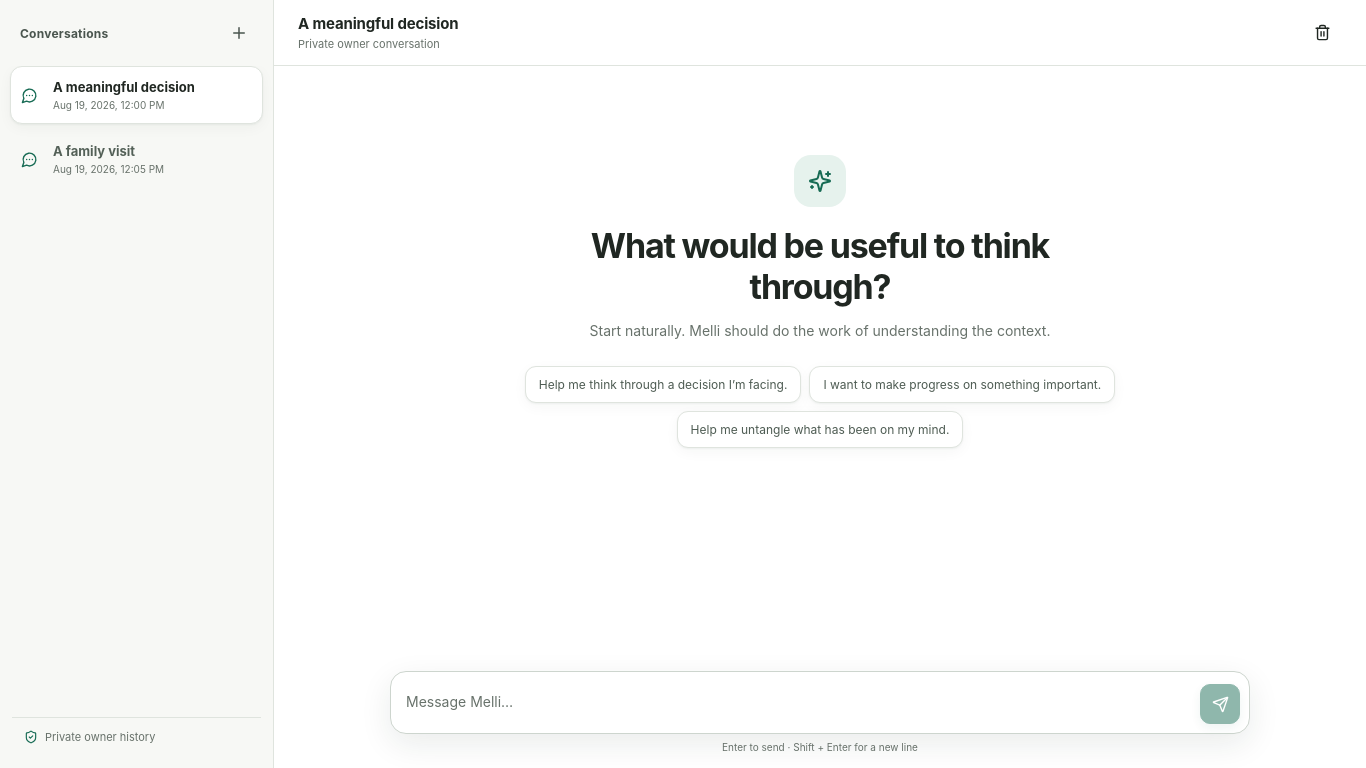
Test: ConversationPage › keeps the destination thread stable when a send finishes elsewhere
Type "A message for the first thread" into the text box labelled "Message Melli" at (798, 702), box [406,681,1190,724]
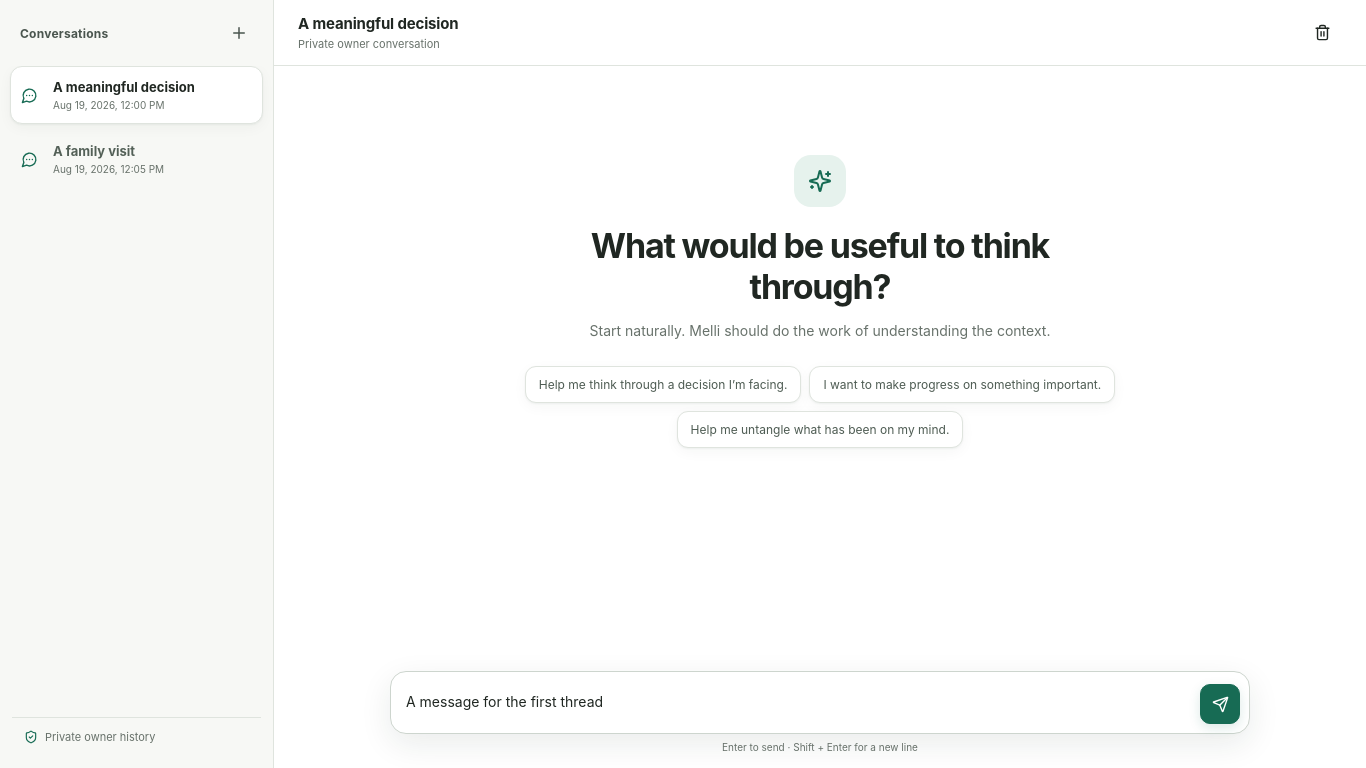
Click the button named "Send message" at (1220, 704), box [1200,684,1240,724]
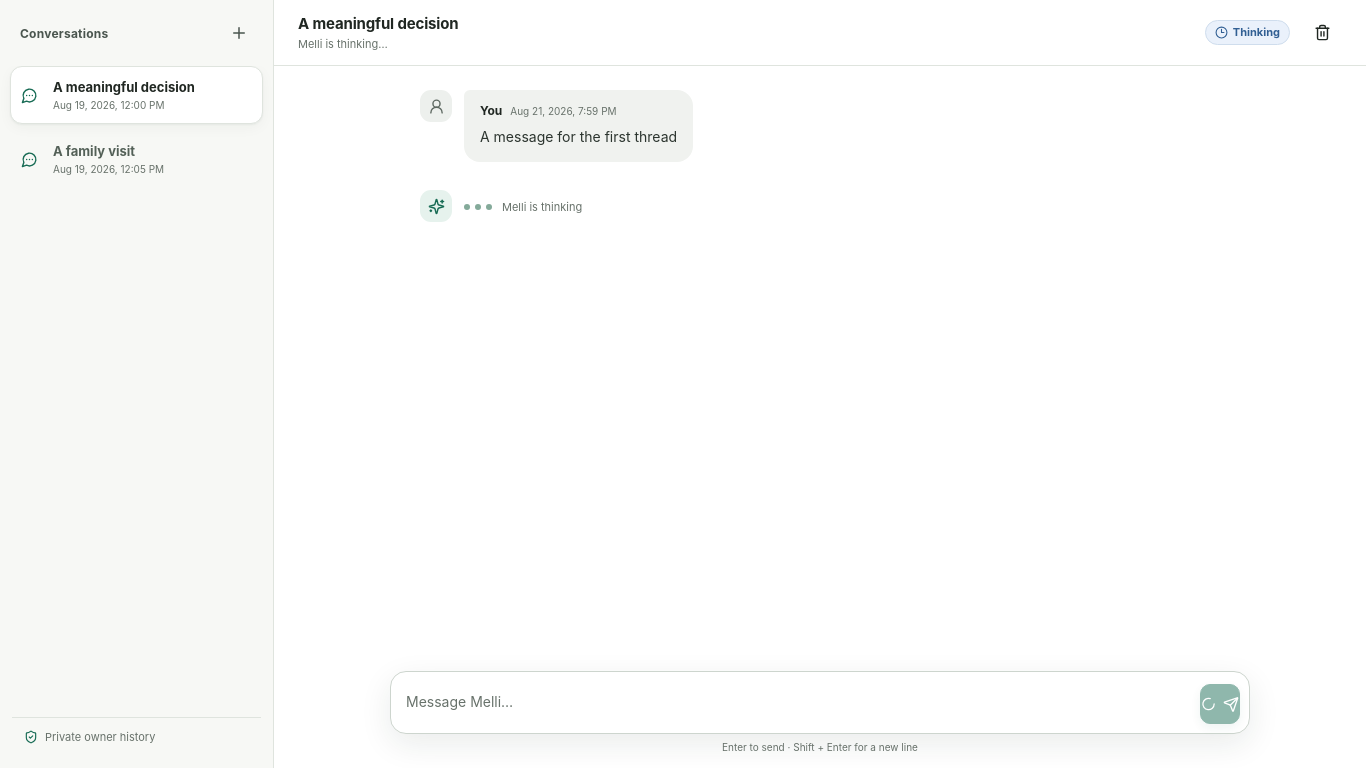
Click the button "A family visit Aug 19, 2026, 12:05 PM" at (136, 159), box [10,130,263,188]
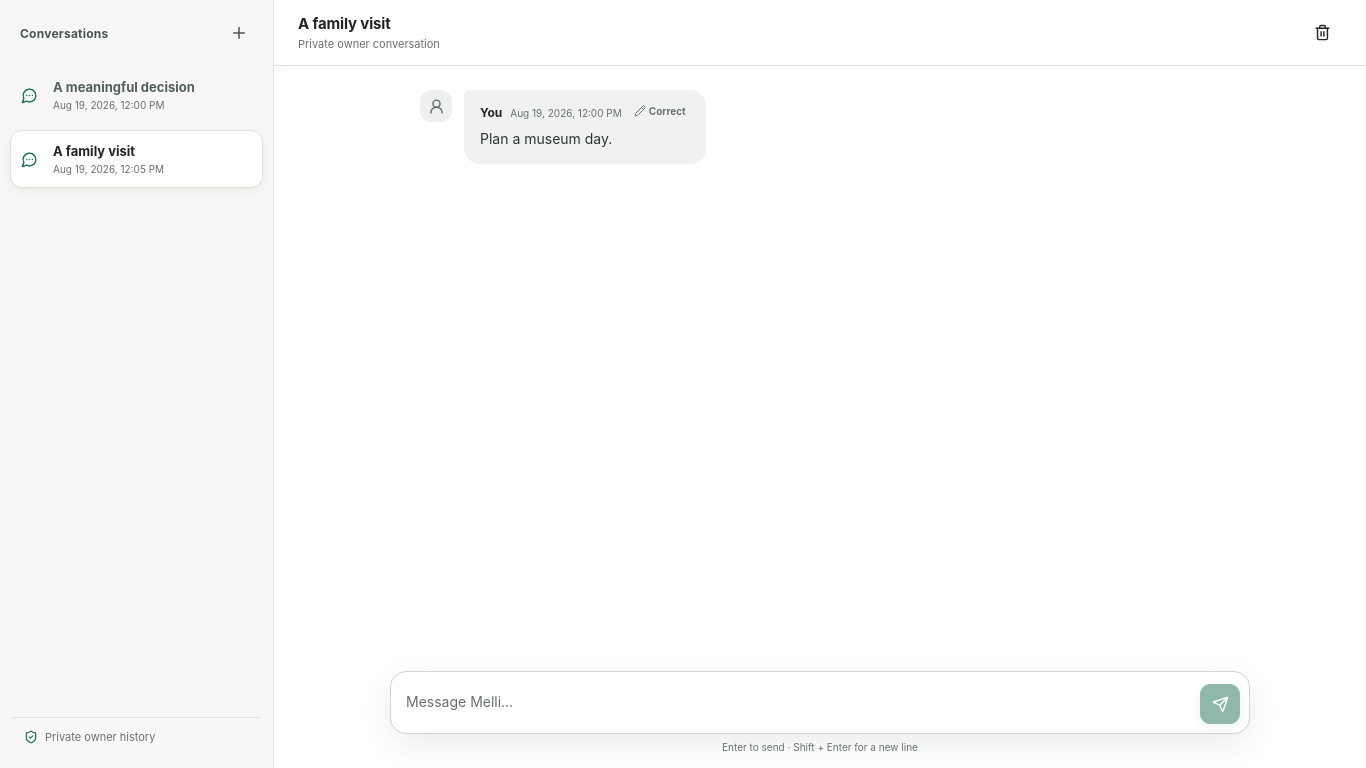
Expected: the heading "A family visit" is shown, [298,14,391,33]
Expected: the text "Plan a museum day." is shown, [480,130,612,147]
